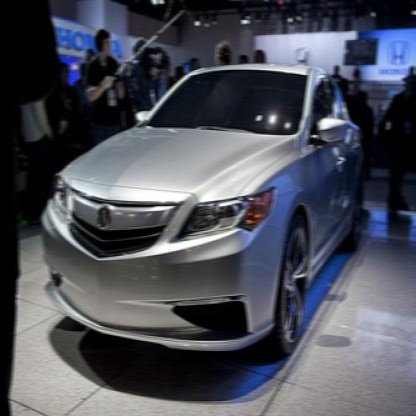Vehicle: (42, 64, 367, 361)
